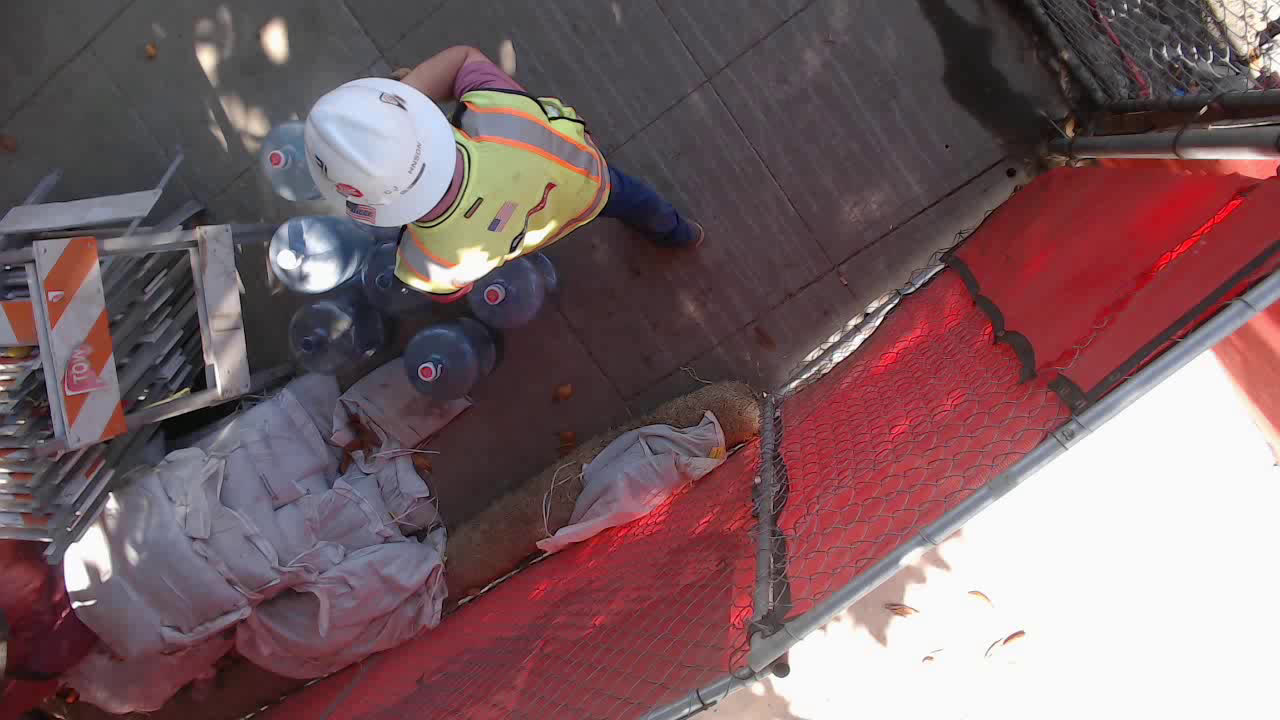hardhat: (303, 74, 458, 231)
safetyvest: (392, 90, 616, 303)
